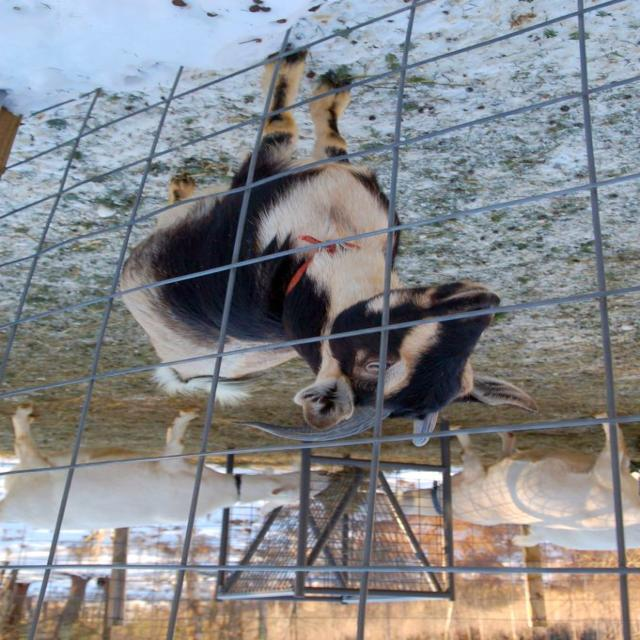Goat: (115, 47, 539, 448), (2, 404, 334, 532), (431, 411, 640, 532), (511, 524, 640, 553)
